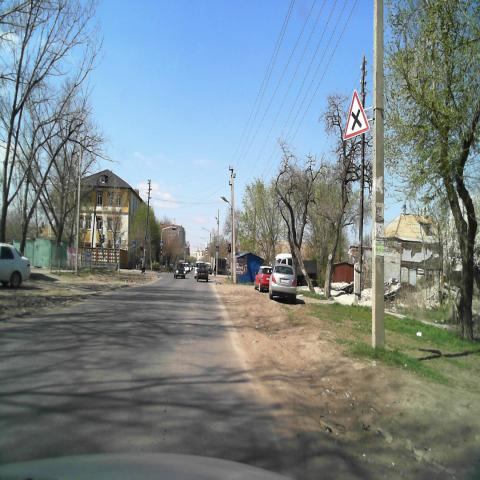1_6: (343, 90, 370, 140)
